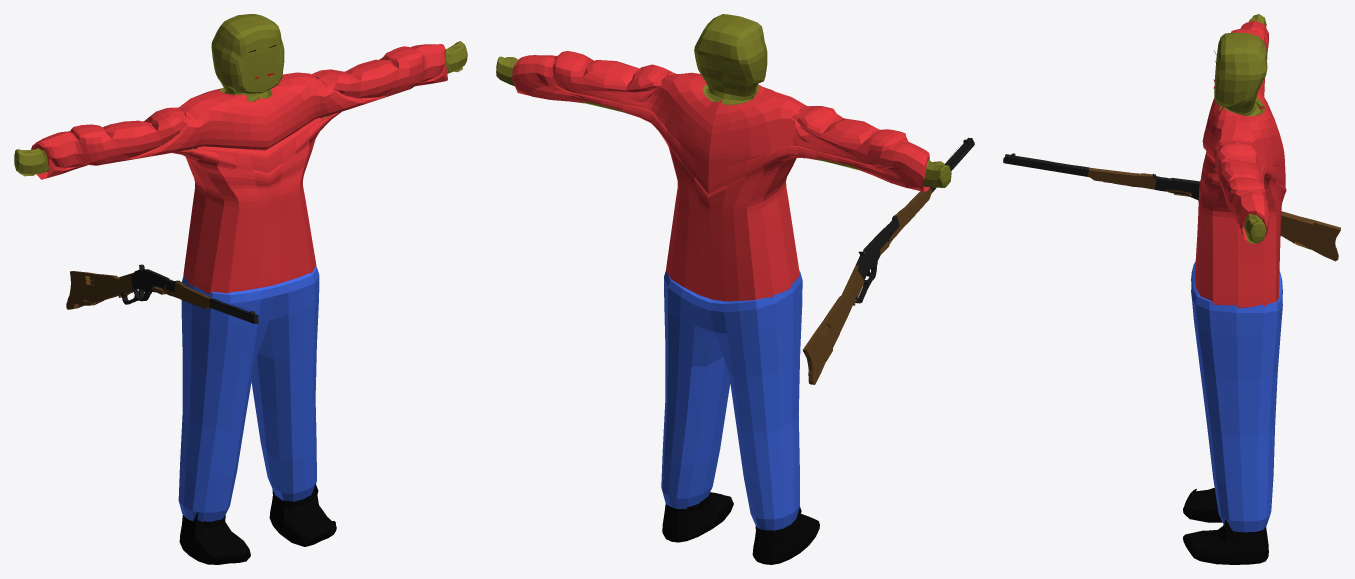
The model's file is enemy2_novověk.fbx.
3 views of the same model, side by side, from view 1: azimuth 30°, elevation 25°; view 2: azimuth 150°, elevation 25°; view 3: azimuth 270°, elevation 25° (orthographic). The views are drawn at different scales.
Visible parts, largest first — view 1: Cube.002, Cube.003, Cube, Cube.001, Plane.001; view 2: Cube.002, Cube.003, Cube, Plane.001, Cube.001; view 3: Cube.003, Cube.002, Plane.001, Cube, Cube.001.
Boxes of the visible parts, left/top/right/bottom form: Cube.002: left=19, top=44, right=462, bottom=294; Cube.003: left=178, top=267, right=319, bottom=521; Cube: left=14, top=14, right=467, bottom=550; Cube.001: left=179, top=484, right=336, bottom=564; Plane.001: left=66, top=264, right=258, bottom=323; Cube.002: left=505, top=51, right=945, bottom=301; Cube.003: left=661, top=271, right=802, bottom=530; Cube: left=496, top=14, right=951, bottom=187; Plane.001: left=802, top=137, right=974, bottom=384; Cube.001: left=662, top=492, right=819, bottom=564; Cube.003: left=1191, top=261, right=1282, bottom=532; Cube.002: left=1194, top=17, right=1286, bottom=308; Plane.001: left=1003, top=153, right=1340, bottom=261; Cube: left=1214, top=14, right=1267, bottom=243; Cube.001: left=1183, top=488, right=1268, bottom=564.
Bounding box in the file's own units: 305 × 336 × 207.
